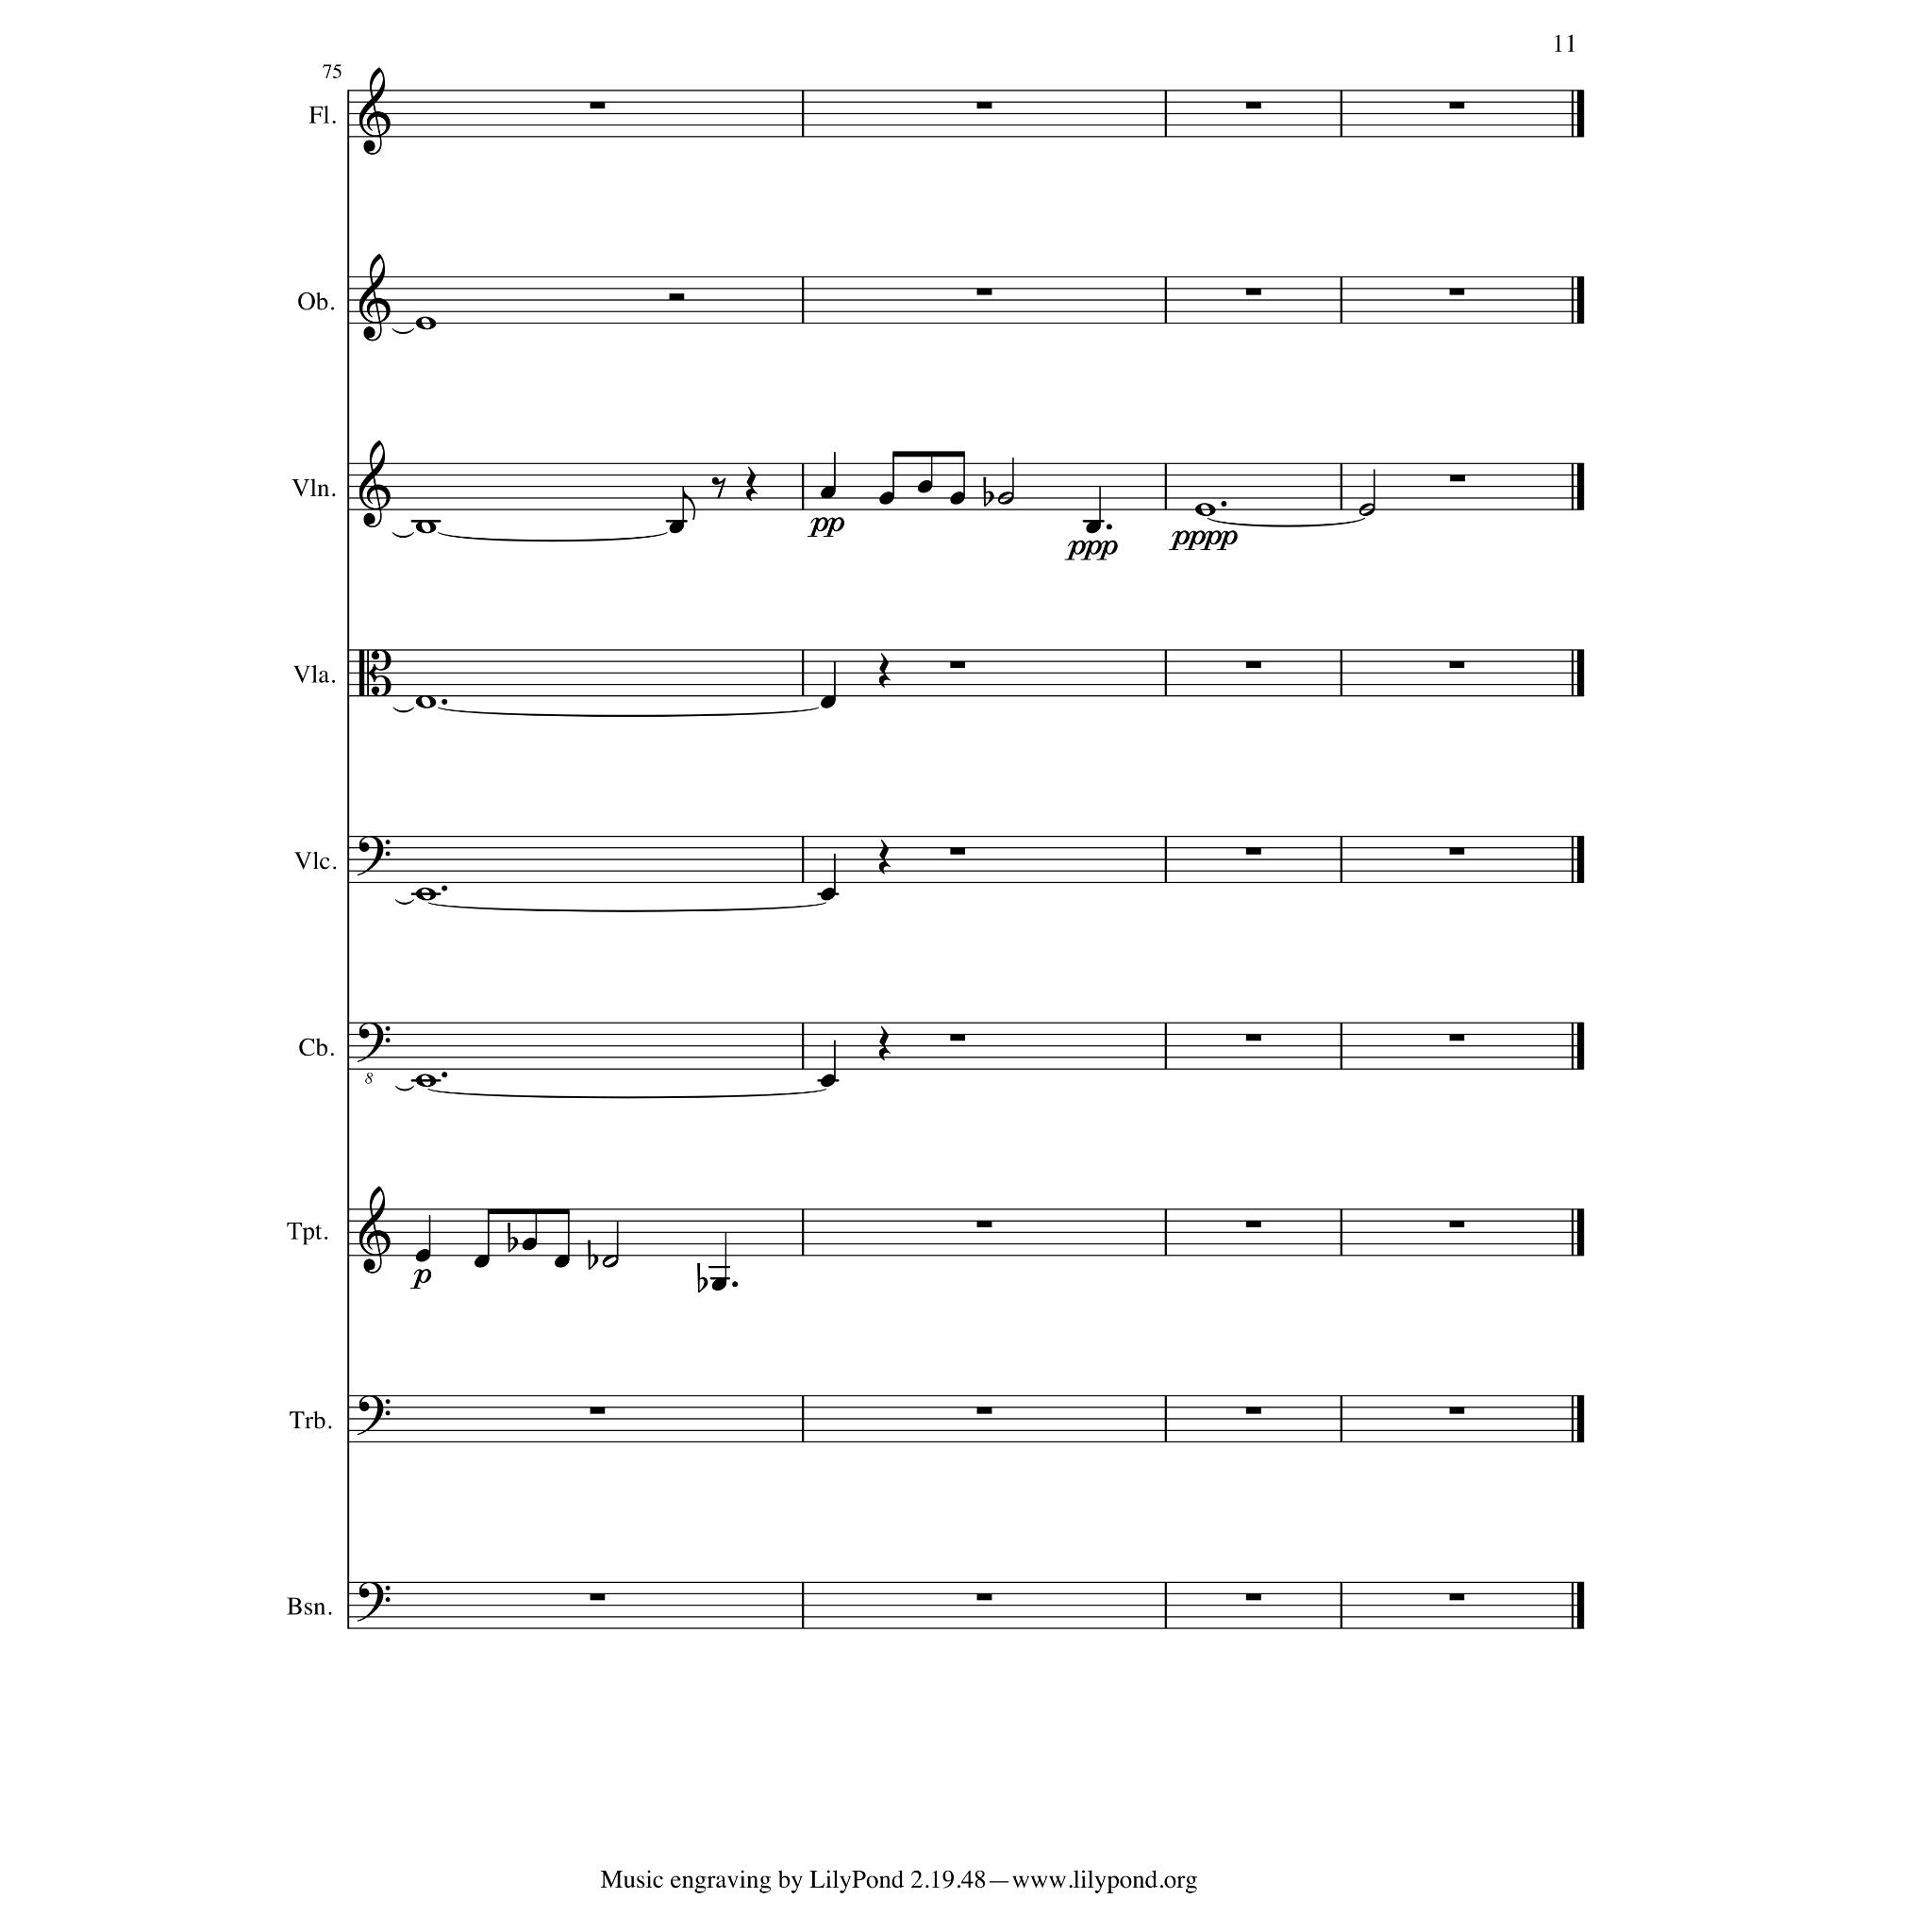fClef: (357, 1582, 391, 1622), (357, 1394, 391, 1435), (357, 1023, 391, 1063), (357, 835, 391, 876)
flag8thUp: (683, 487, 697, 520)
gClef: (359, 439, 391, 529), (359, 253, 391, 343), (359, 1185, 391, 1274), (359, 67, 391, 156)
noteheadBlack: (1085, 520, 1102, 534), (950, 492, 966, 506), (916, 479, 932, 494), (472, 1254, 488, 1269), (879, 492, 895, 506), (669, 520, 685, 534), (554, 1254, 570, 1269), (711, 1277, 727, 1292), (414, 1249, 430, 1261), (819, 1074, 835, 1086), (819, 888, 835, 901), (819, 695, 835, 708), (819, 487, 835, 499), (522, 1238, 538, 1251)
noteheadHalf: (602, 1254, 619, 1269), (1359, 502, 1375, 517), (998, 492, 1014, 506)
noteheadWhole: (414, 317, 437, 331), (414, 520, 437, 534), (414, 1074, 437, 1088), (1194, 502, 1215, 517), (414, 695, 437, 708), (414, 888, 437, 901)
rest8th: (711, 478, 727, 501)
restHalf: (669, 294, 685, 301)
restQuarter: (745, 465, 757, 502), (878, 1026, 890, 1062), (878, 839, 890, 874), (878, 653, 890, 688)
restWhole: (950, 847, 966, 856), (950, 1033, 966, 1042), (1246, 847, 1261, 856), (1246, 1033, 1261, 1042), (1449, 1033, 1465, 1042), (1449, 847, 1465, 856), (977, 103, 993, 110), (950, 662, 966, 669), (977, 1594, 993, 1601), (1246, 103, 1261, 110), (1246, 288, 1261, 295), (1246, 662, 1261, 669), (1246, 1221, 1261, 1228), (1246, 1407, 1261, 1414), (1246, 1594, 1261, 1601), (977, 1221, 993, 1228), (977, 288, 993, 295), (1449, 474, 1465, 481), (977, 1407, 993, 1414), (589, 1594, 605, 1601), (589, 1407, 605, 1414), (589, 103, 605, 110), (1449, 1594, 1465, 1601), (1449, 1407, 1465, 1414), (1449, 1221, 1465, 1228), (1449, 662, 1465, 669), (1449, 288, 1465, 295), (1449, 103, 1465, 110)
